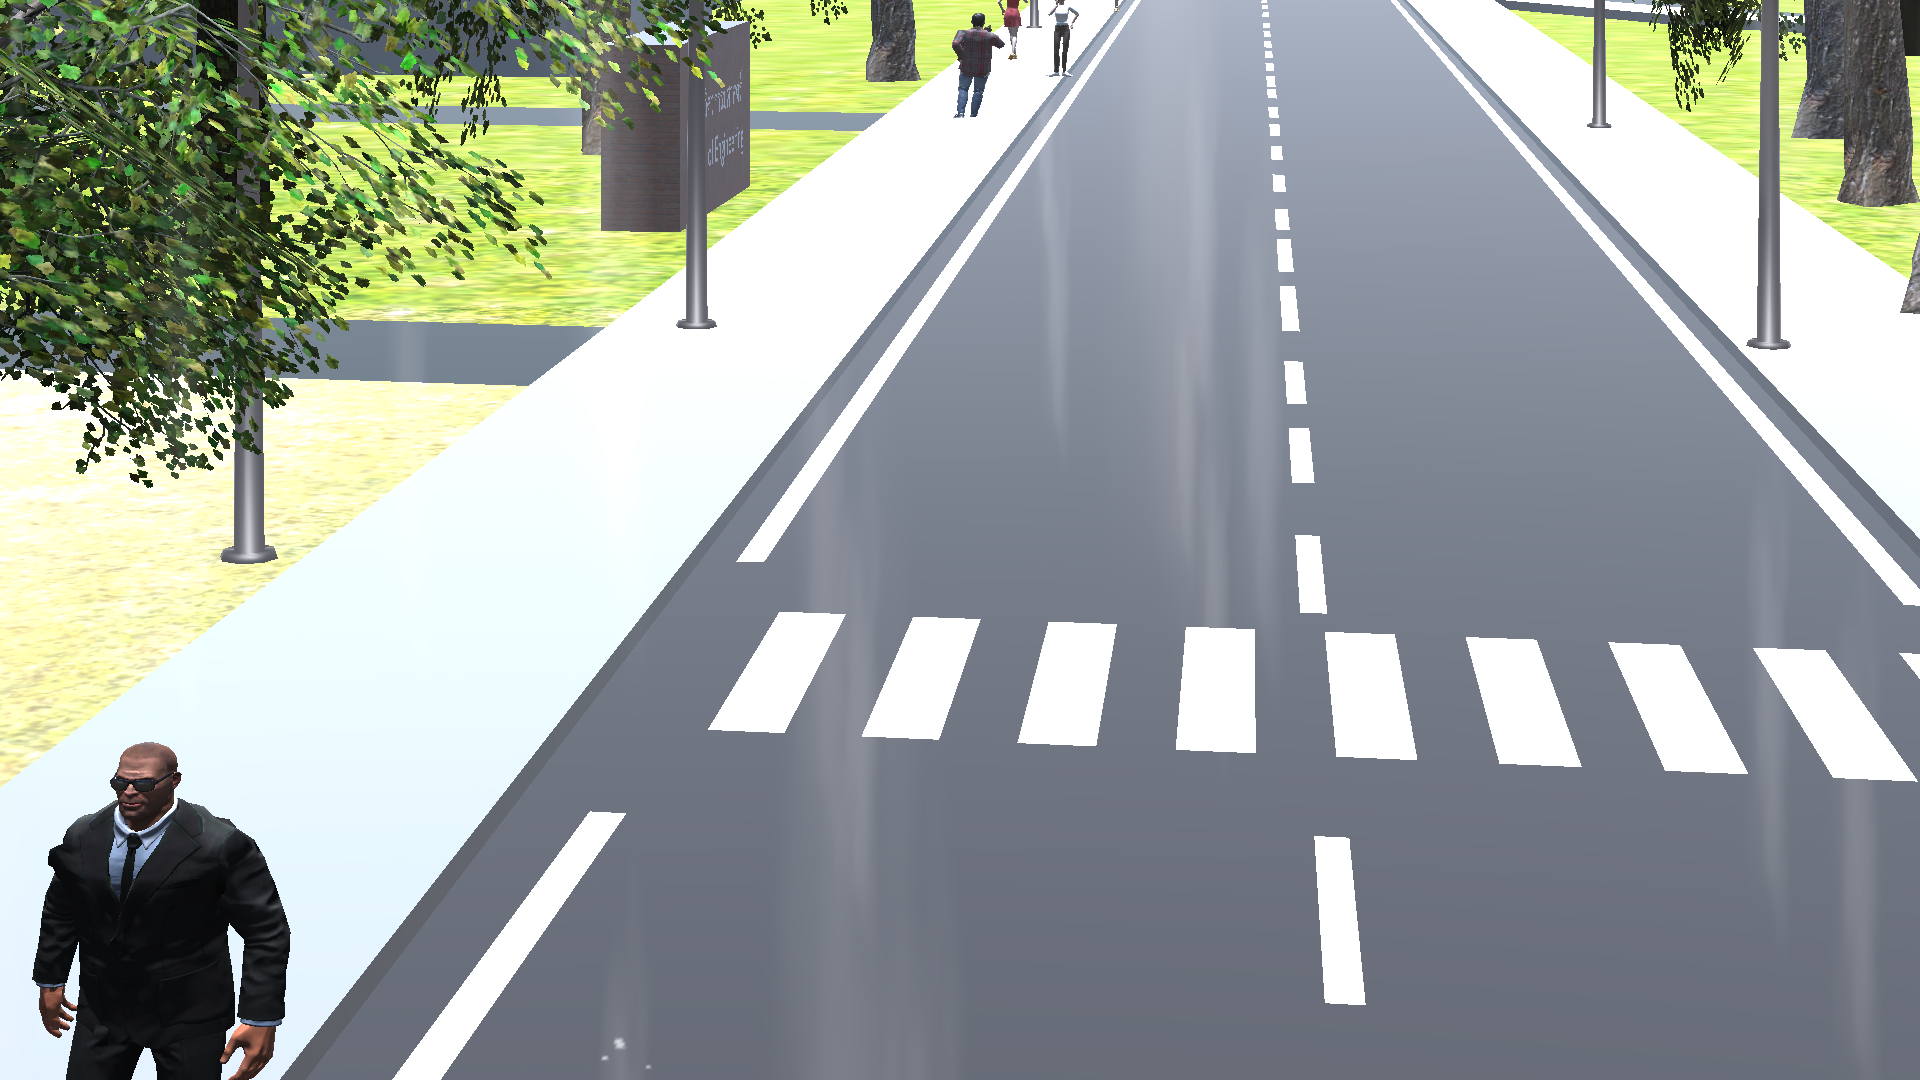pedestrian: (20, 729, 319, 1080), (949, 6, 1002, 122), (1041, 1, 1100, 87), (998, 1, 1034, 65)
